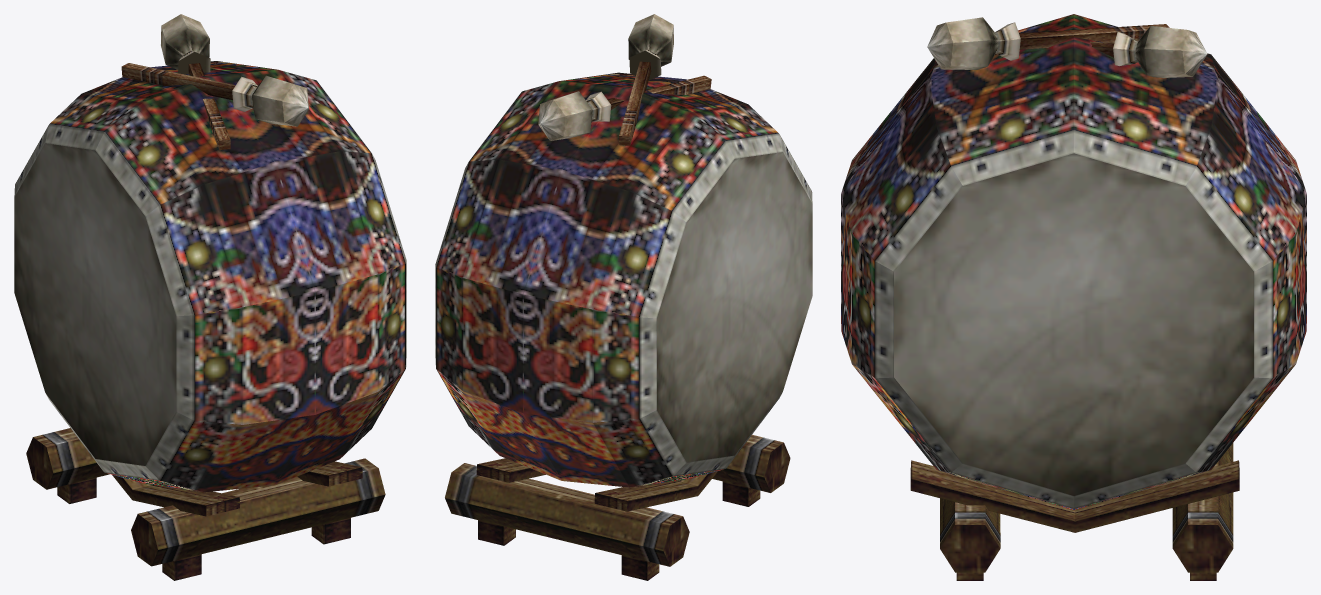
File: general_obj_drum.glb
3 renders of one model, left to right at view 1: azimuth 30°, elevation 25°; view 2: azimuth 150°, elevation 25°; view 3: azimuth 270°, elevation 25°, orthographic. The views are drawn at different scales.
Parts seen in each view (by area): view 1: Box01; view 2: Box01; view 3: Box01.
Boxes of the visible parts, x1,y1,x2,y2 form: Box01: (14,14,406,580); Box01: (435,14,812,580); Box01: (841,14,1306,580).
Bounding box in the file's own units: 0.6397 × 1.25 × 1.01.
1 material, 1 textured.
